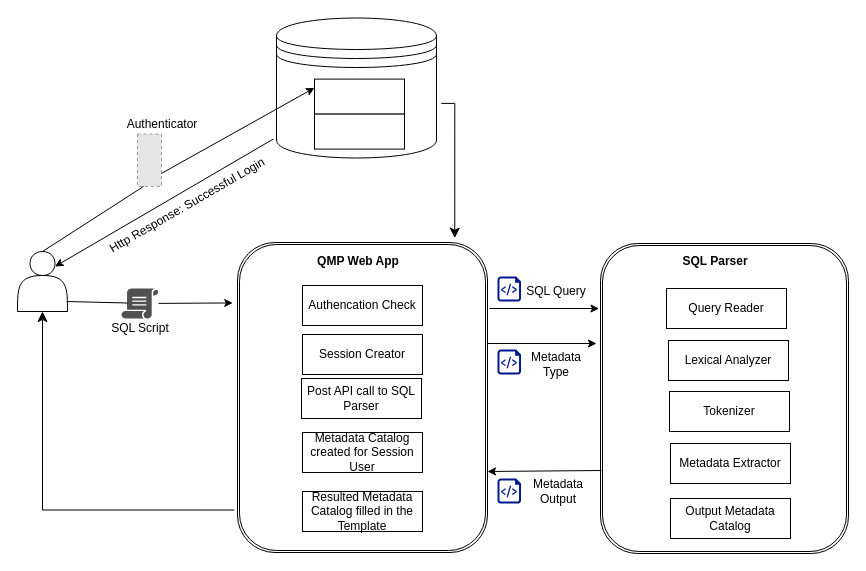
Image size: 866x571. Some labels were removed from this diagram. Grey dashed boxes stand in for pictures. Each missing label, with the centre of its shape:
"Metadata Types" goes at point (359, 131).
"User Credentials" goes at point (359, 96).
